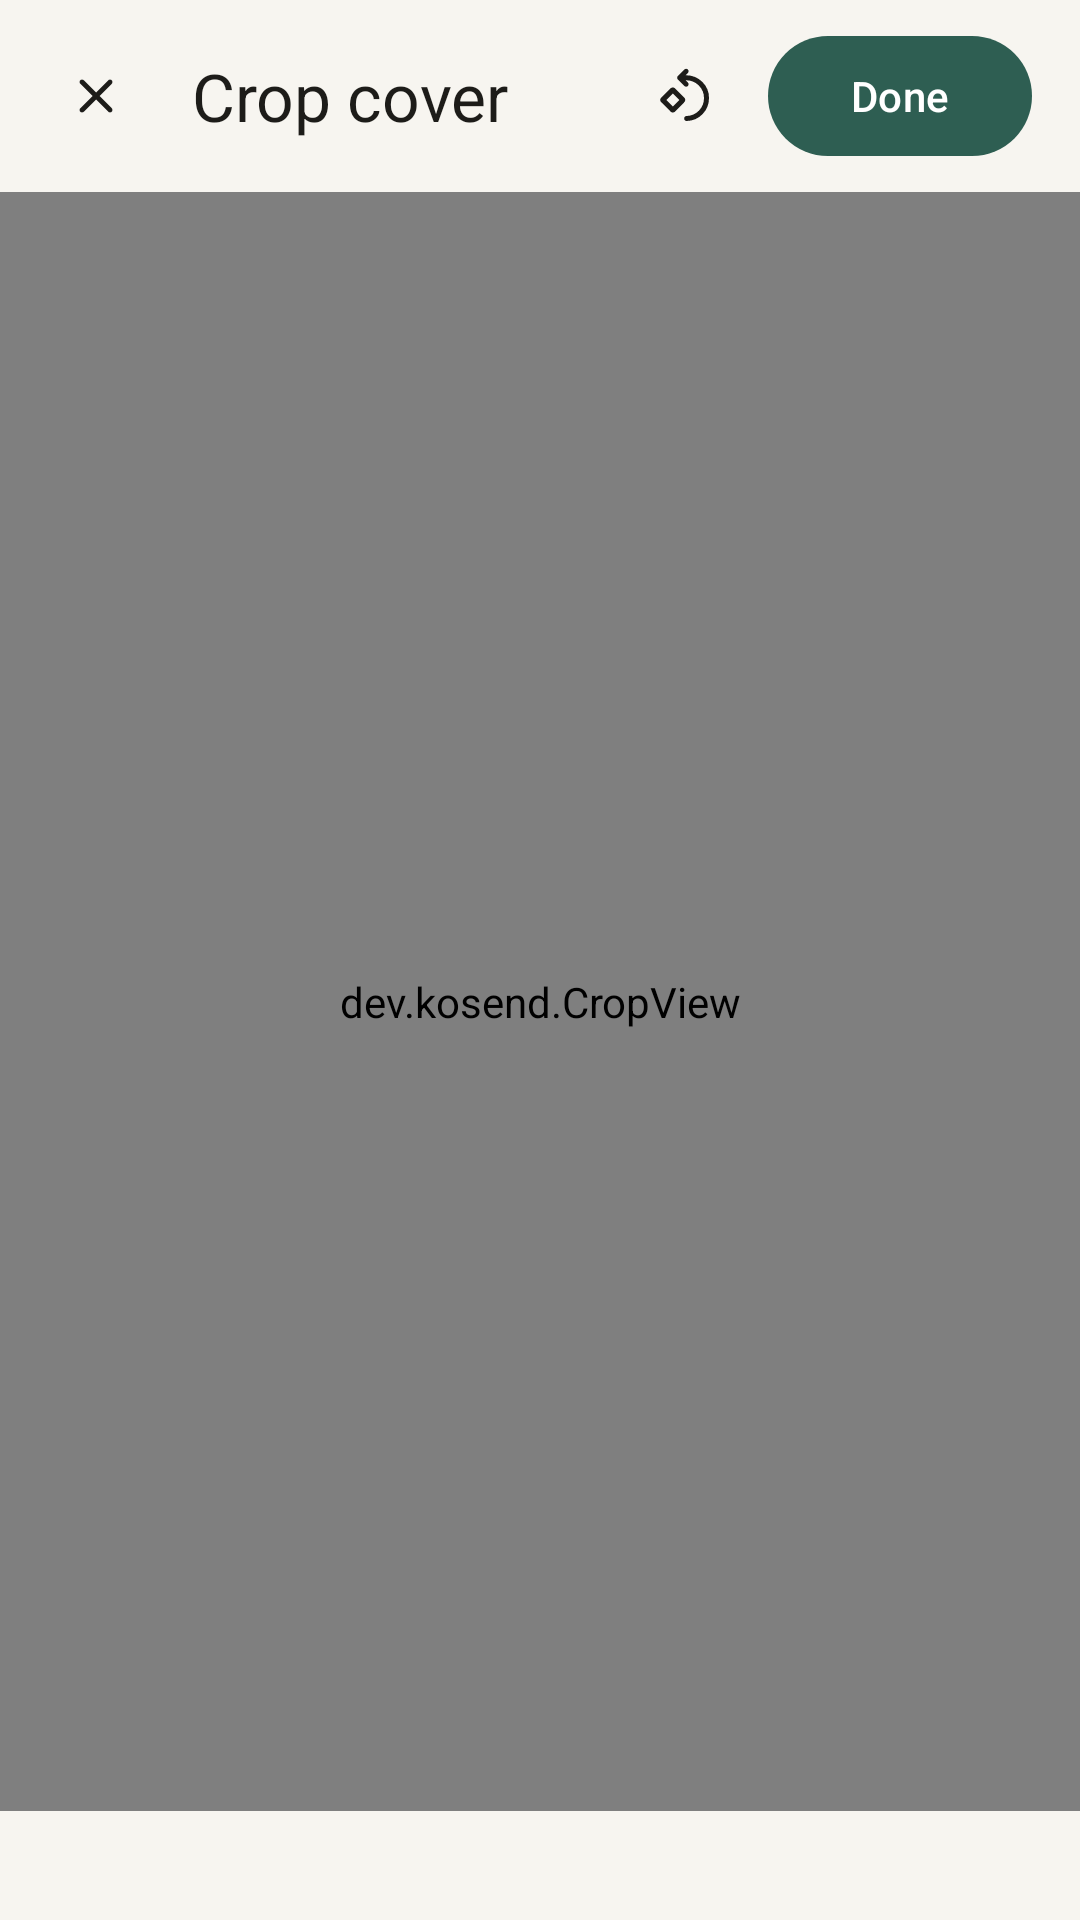

Point at icon controls on the screen. Image size 1080x1920, points as (x=x, y=y).
Close: (x=96, y=96)
Rotate: (x=684, y=94)
